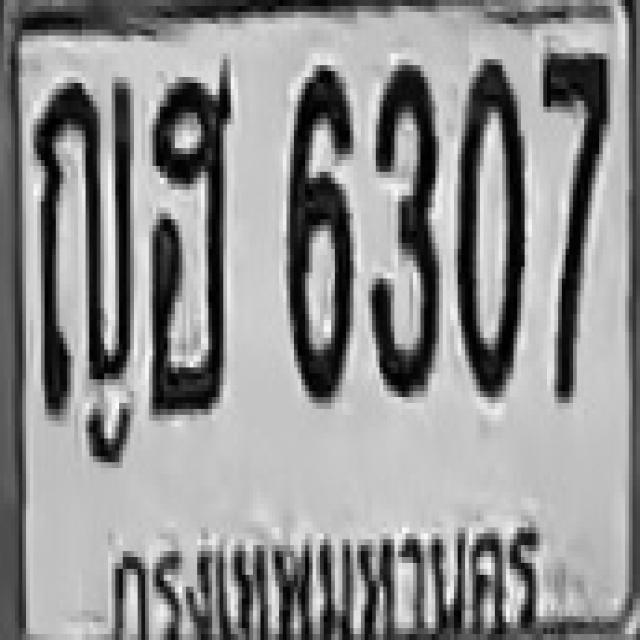0: (454, 53, 525, 391)
22YorYing: (32, 74, 132, 412), (32, 77, 132, 362), (33, 142, 134, 415)
3: (368, 59, 436, 391)
53HorNokHook: (145, 68, 231, 412)
6: (284, 59, 352, 403)
7: (542, 48, 608, 374), (542, 48, 608, 278), (542, 50, 608, 246)
Bangkok: (104, 516, 559, 640)
